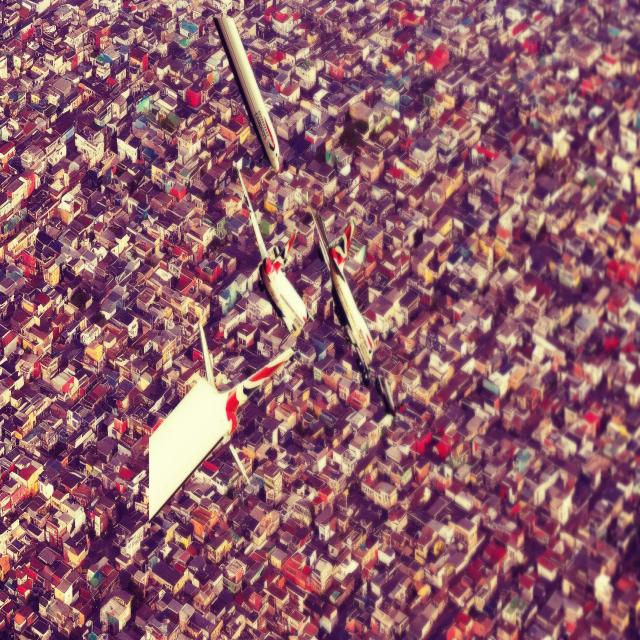airplane: (313, 197, 397, 409), (234, 163, 311, 350), (212, 10, 282, 174)
